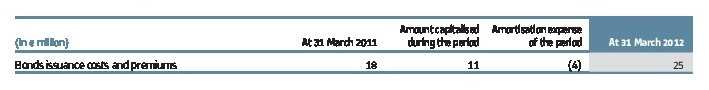table: (0, 0, 709, 90)
